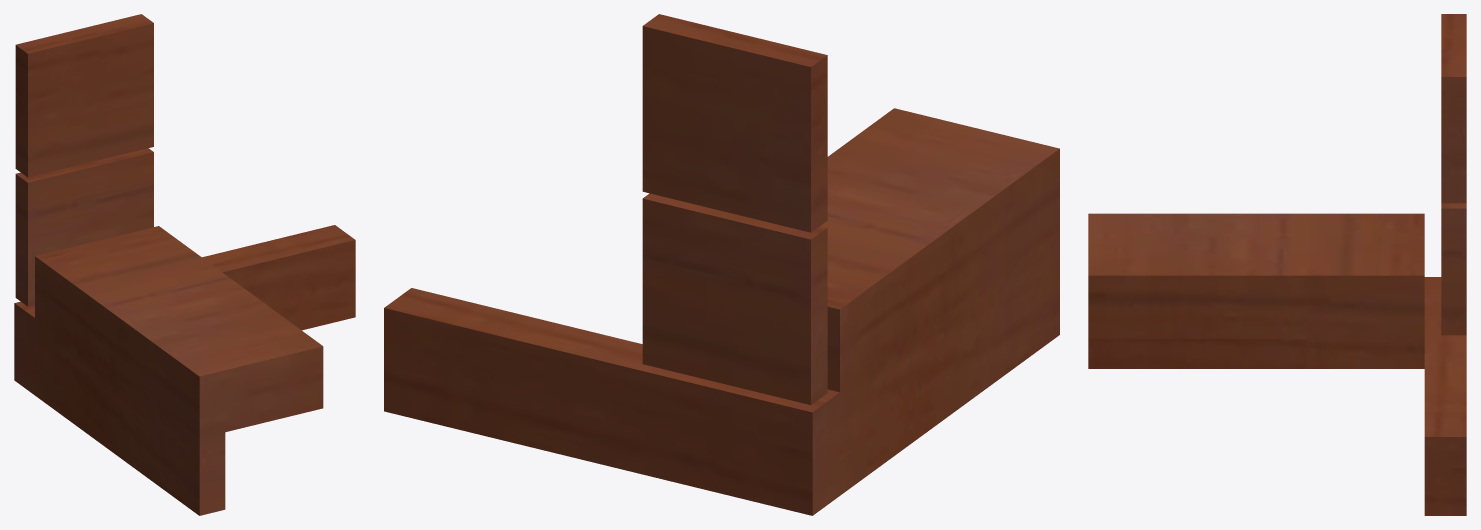
Rendered from sh-lp-comodino-sinistro-ciliegio.glb.
3 renders of one model, left to right at view 1: azimuth 30°, elevation 25°; view 2: azimuth 150°, elevation 25°; view 3: azimuth 270°, elevation 25°, orthographic. The views are drawn at different scales.
Parts seen in each view (by area): view 1: Box34_1; view 2: Box34_1; view 3: Box34_1.
Part boxes in pixels (bbox=[...]): Box34_1: bbox=[14, 14, 355, 515]; Box34_1: bbox=[384, 14, 1059, 515]; Box34_1: bbox=[1088, 14, 1466, 515].
Bounding box in the file's own units: 1 × 1 × 1.
Materials: 1 (1 with a texture image).
